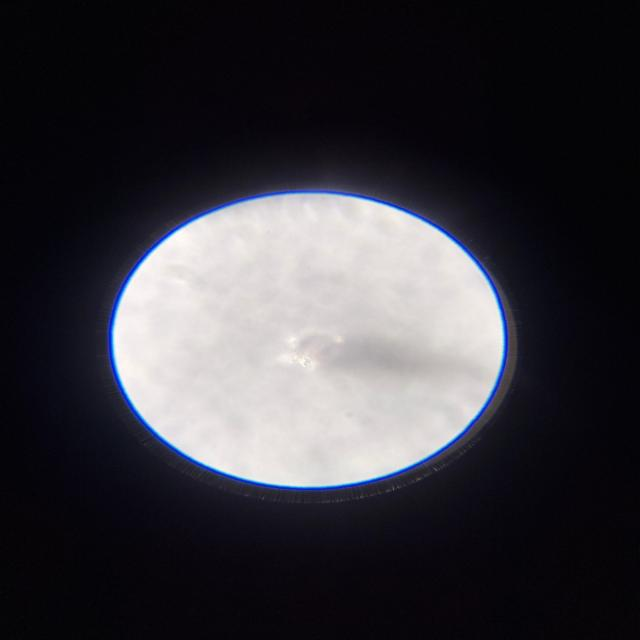microplastic_type_1: (274, 329, 346, 372)
